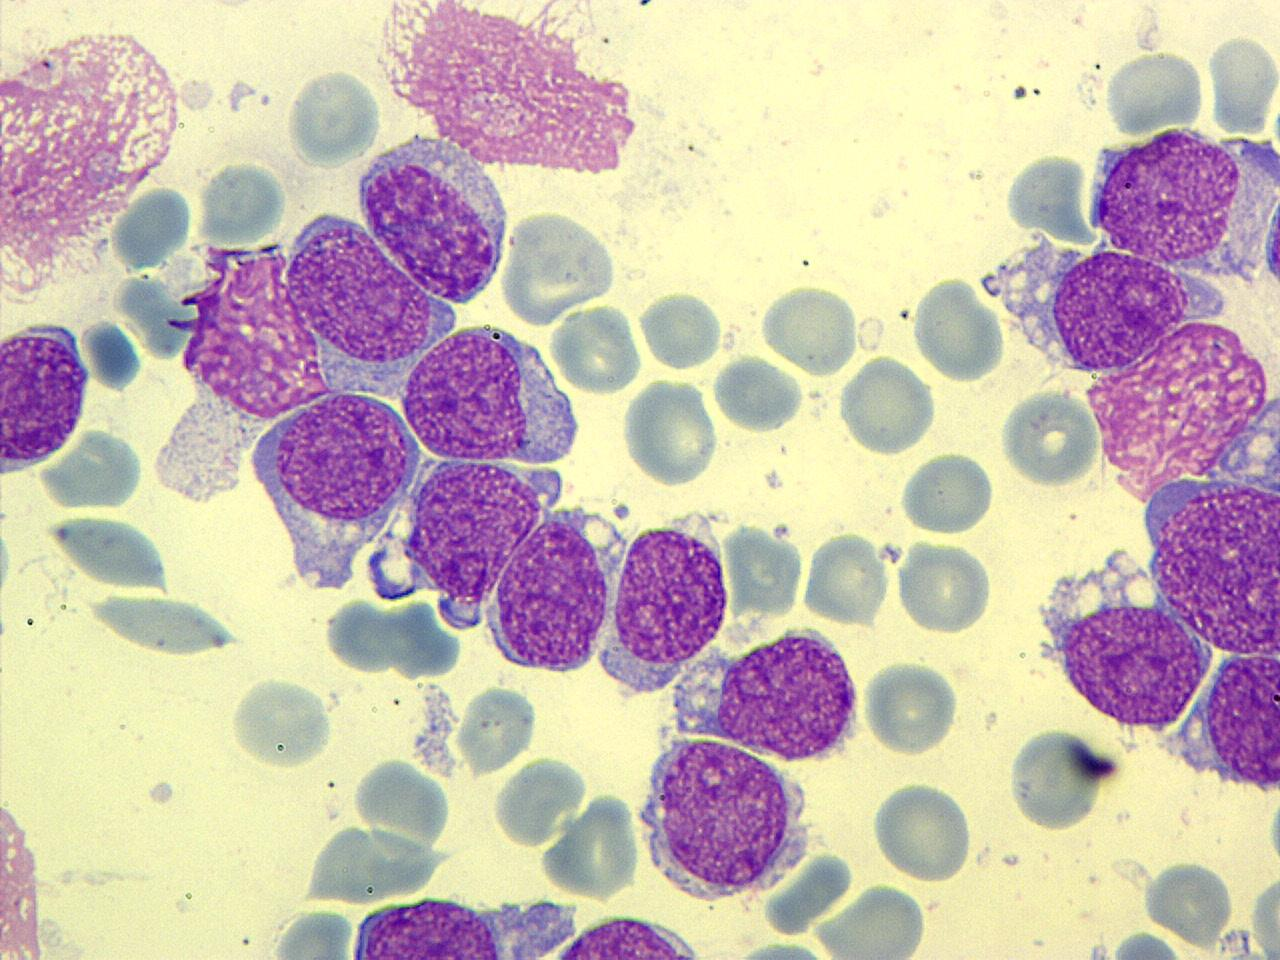RBC: (2, 17, 184, 272), (502, 207, 620, 325), (868, 776, 977, 884), (1008, 723, 1114, 833), (998, 384, 1104, 490), (226, 672, 337, 772), (622, 376, 722, 487), (912, 271, 1008, 385), (835, 353, 939, 457), (859, 656, 962, 757), (894, 536, 994, 636), (756, 281, 860, 376), (1102, 47, 1208, 139), (38, 425, 145, 514), (800, 528, 893, 628), (550, 301, 644, 398), (897, 449, 998, 537), (1143, 856, 1235, 947), (455, 682, 540, 776), (712, 350, 806, 435), (636, 288, 724, 372)
WBC: (939, 38, 1280, 843), (0, 13, 187, 311), (362, 2, 653, 174), (246, 382, 428, 588), (1034, 544, 1218, 735), (1077, 121, 1279, 283), (633, 735, 813, 904), (674, 617, 866, 766), (353, 132, 514, 307), (592, 501, 736, 694), (396, 321, 584, 467), (482, 503, 616, 677), (0, 318, 95, 478), (331, 896, 524, 960), (1, 760, 50, 960), (535, 910, 713, 958)
